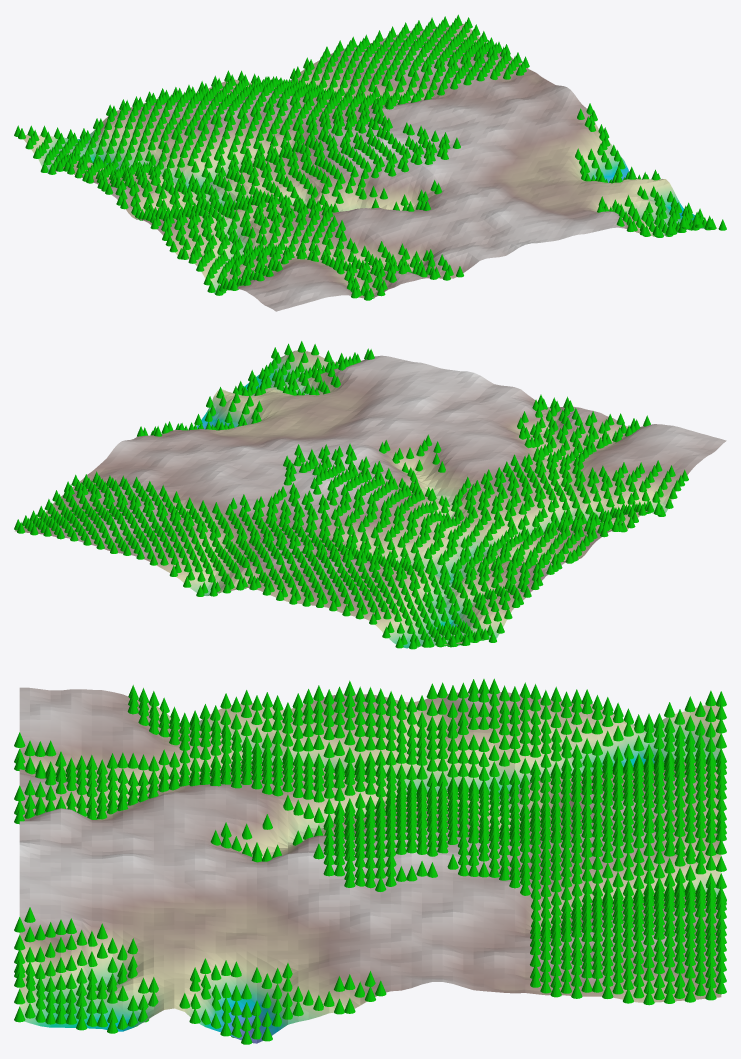
Rendered from 005293_with_tree.glb.
3 renders of one model, top to bottom at view 1: azimuth 30°, elevation 25°; view 2: azimuth 150°, elevation 25°; view 3: azimuth 270°, elevation 25°, orthographic. The views are drawn at different scales.
Parts seen in each view (by area): view 1: terrain, trees; view 2: terrain, trees; view 3: terrain, trees.
Part boxes in pixels (<box>): terrain: <box>23,23,718,311</box>; trees: <box>14,14,726,300</box>; terrain: <box>15,350,726,648</box>; trees: <box>14,341,688,649</box>; terrain: <box>19,687,721,1043</box>; trees: <box>14,678,726,1044</box>.
Bounding box in the file's own units: 0.0186 × 0.00231 × 0.0186.
